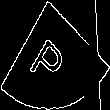P_NE: (32, 23, 78, 87)
